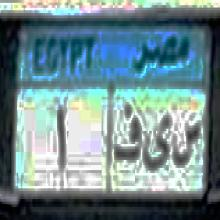1: (53, 102, 67, 174)
faa: (113, 102, 140, 172)
seen: (174, 116, 201, 177)
yaa: (142, 103, 170, 179)
